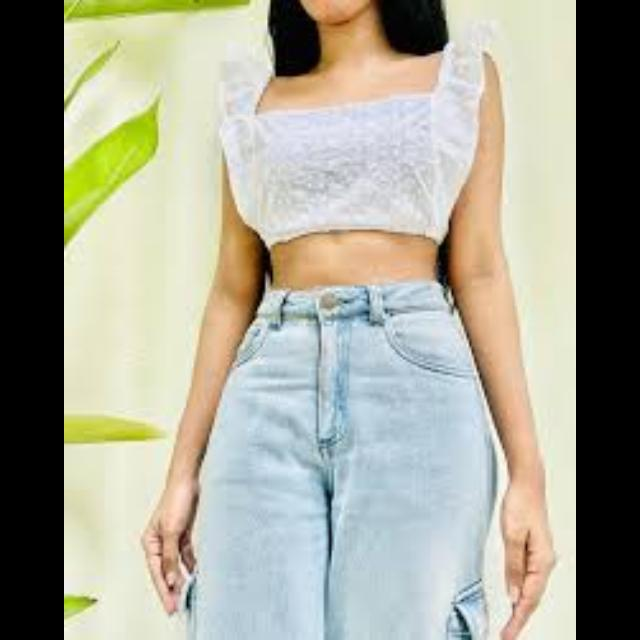bottom: (200, 280, 490, 634)
top: (219, 71, 477, 243)
